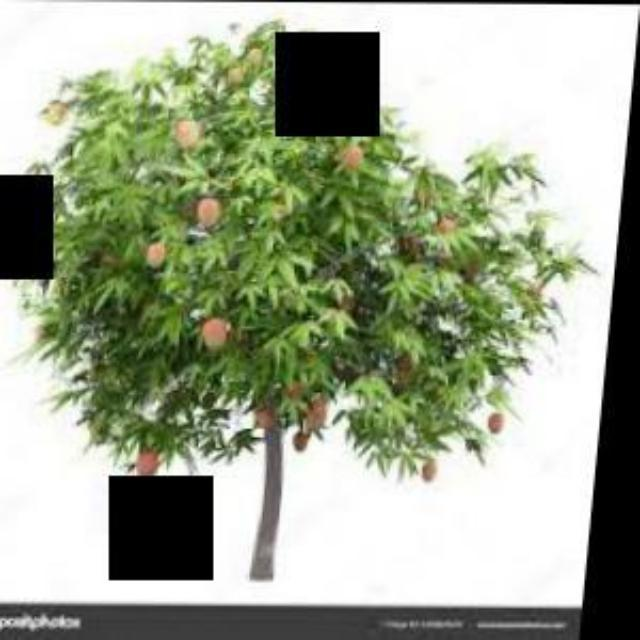tree: (0, 16, 608, 586)
